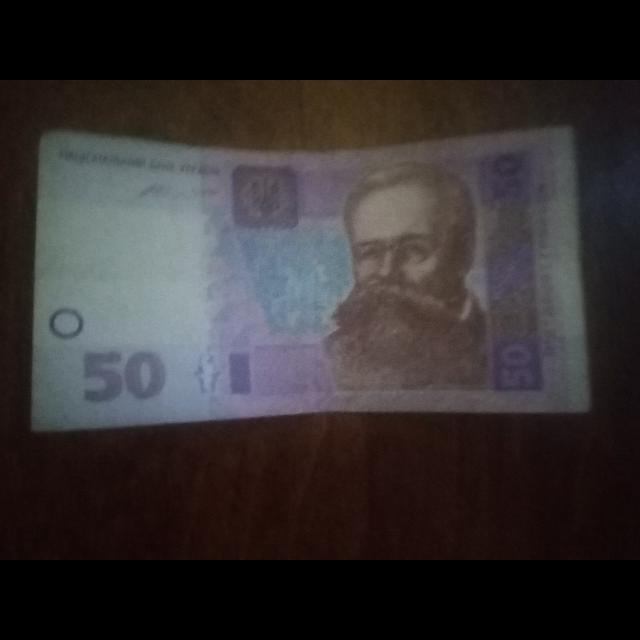50uah: (31, 127, 591, 431)
